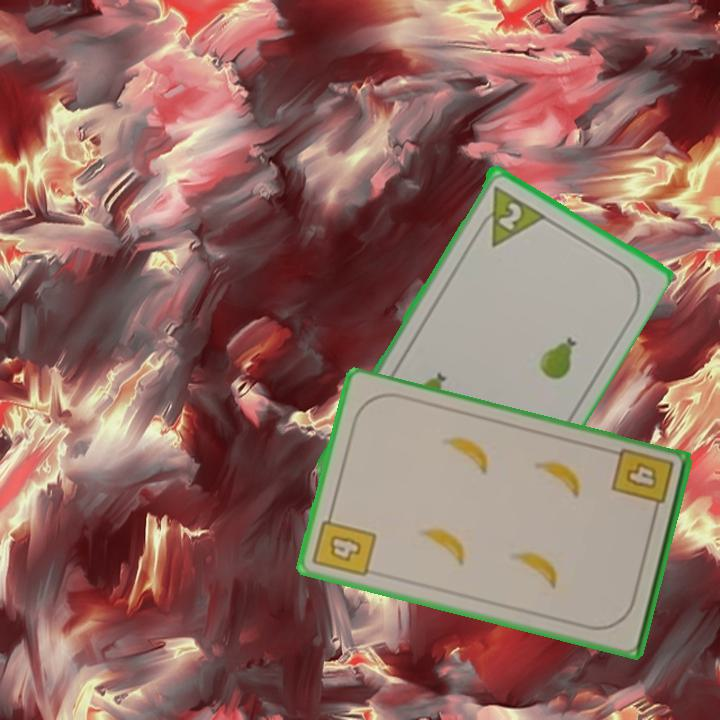2p: (470, 181, 546, 249)
4b: (309, 506, 379, 580), (608, 445, 677, 520)
